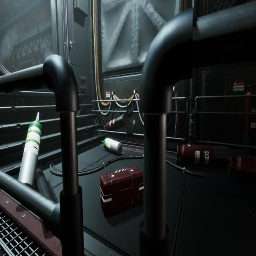0: (18, 112, 42, 189), (102, 138, 122, 155)
FirstAidBox ,: (100, 166, 144, 216)
NitrogenTank ,: (176, 144, 231, 169), (242, 83, 256, 155), (228, 155, 256, 186), (104, 114, 126, 134)
